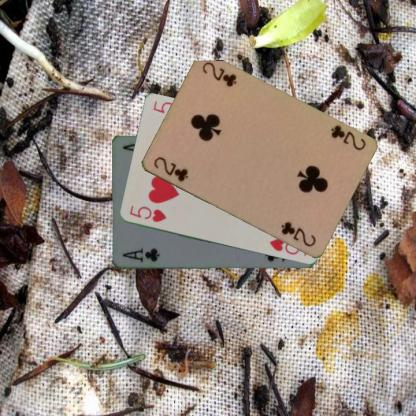2c: (327, 122, 367, 152), (150, 154, 190, 183)
5h: (127, 202, 168, 223)
Ac: (120, 245, 160, 264)
